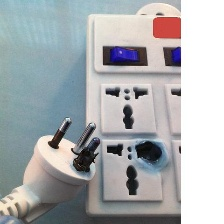three_eye_plug: (78, 2, 223, 220)
